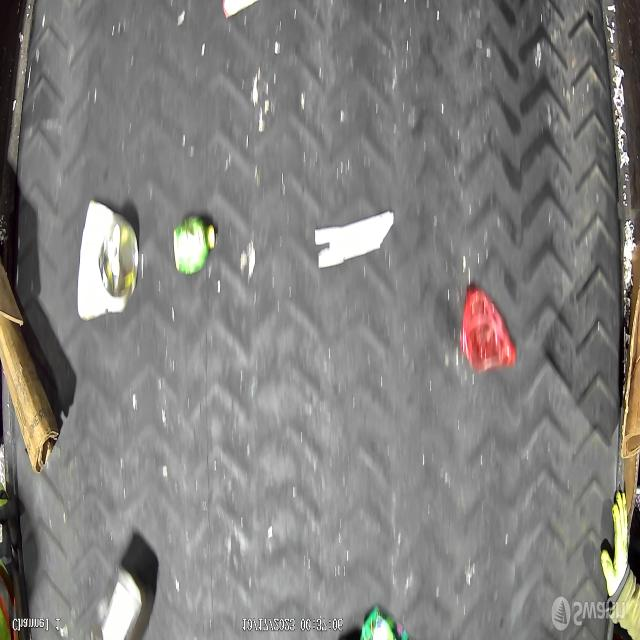can: (77, 198, 139, 321)
